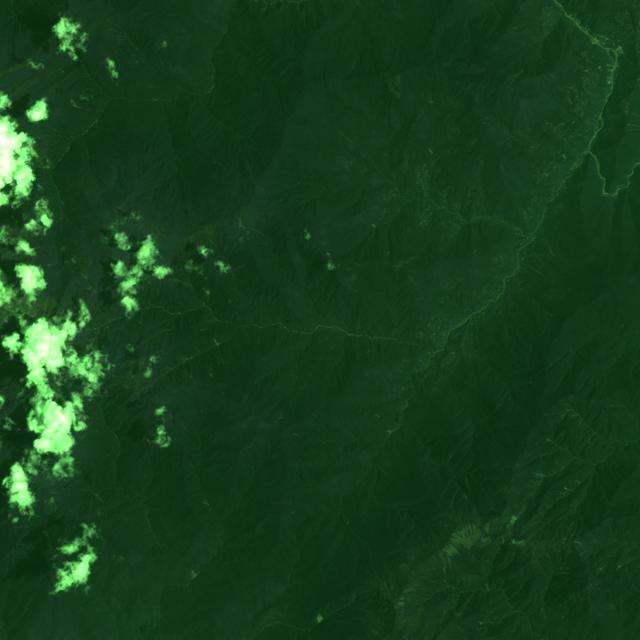landslides: (452, 525, 480, 550), (444, 544, 462, 558), (544, 240, 558, 258), (478, 536, 491, 554), (70, 99, 87, 111), (475, 218, 480, 257), (231, 263, 246, 274), (561, 408, 572, 423), (204, 237, 218, 248), (79, 94, 97, 101), (38, 131, 59, 137)
